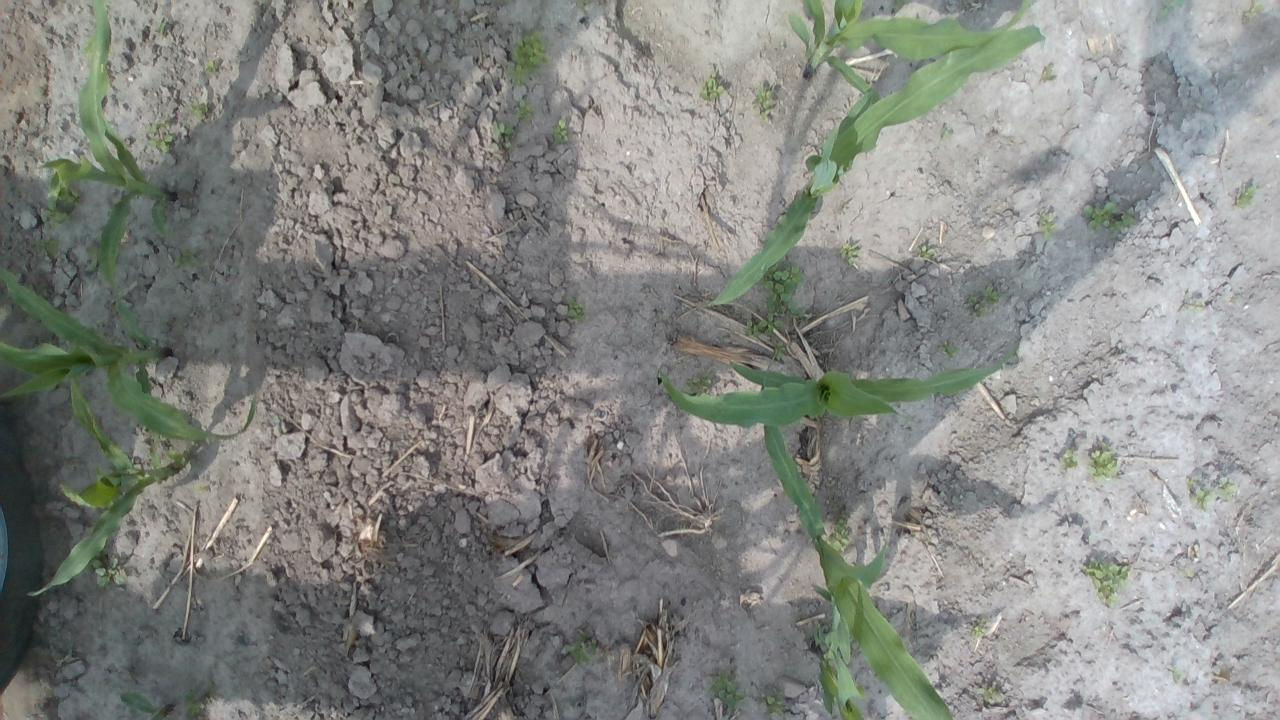Maize: (710, 25, 1046, 304), (760, 378, 953, 720), (0, 206, 255, 440), (35, 0, 180, 343), (24, 376, 184, 598), (658, 347, 1006, 431), (788, 0, 1032, 97), (808, 581, 866, 720), (118, 688, 176, 720)
Weeds: (504, 28, 550, 85), (1080, 558, 1128, 610), (760, 261, 801, 316), (1082, 198, 1138, 238), (704, 669, 751, 711), (45, 186, 82, 228), (88, 552, 124, 590), (184, 680, 217, 720), (1088, 444, 1122, 481), (144, 120, 178, 155), (564, 634, 600, 666), (968, 285, 1001, 318), (1186, 476, 1216, 511), (744, 313, 784, 338), (750, 83, 776, 121), (824, 517, 850, 553), (760, 691, 786, 720), (699, 73, 727, 99), (685, 372, 713, 395), (1038, 210, 1058, 240), (837, 240, 860, 266), (1058, 448, 1081, 471), (84, 242, 101, 272), (551, 117, 569, 144), (514, 96, 536, 118), (566, 296, 586, 320), (974, 686, 1002, 703), (1216, 481, 1238, 502), (1237, 186, 1257, 209), (1182, 294, 1204, 314), (1160, 0, 1184, 18), (914, 244, 940, 260), (175, 246, 198, 264), (39, 238, 61, 256), (1244, 0, 1264, 19), (492, 122, 513, 139), (190, 101, 209, 119), (1041, 62, 1056, 82), (941, 343, 962, 357), (773, 342, 786, 363), (1172, 668, 1186, 682), (938, 126, 952, 140), (971, 626, 986, 638), (1176, 566, 1193, 576), (206, 59, 218, 72), (1230, 294, 1242, 306), (576, 0, 593, 8), (158, 20, 170, 31), (272, 415, 278, 423)
